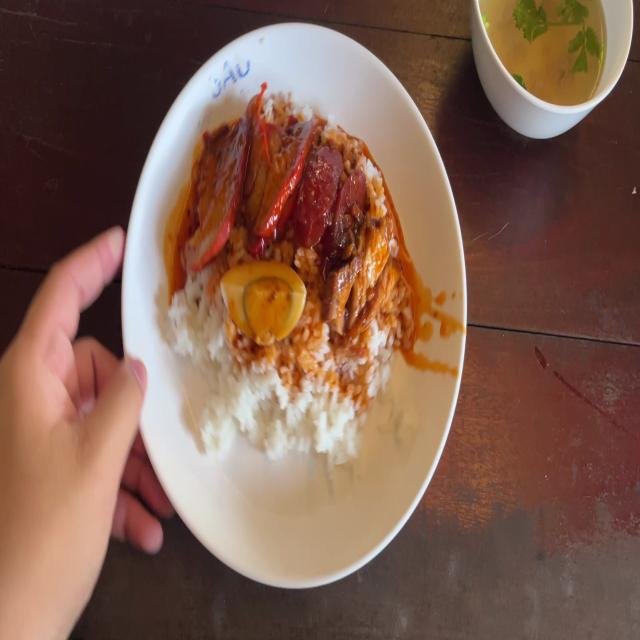01boiled_egg: (230, 259, 298, 341)
01chainese_sausage: (297, 145, 361, 259)
01crispy_pork: (341, 201, 395, 335)
01red_pork: (187, 104, 303, 247)
01red_pork_and_crispy_pork: (182, 112, 409, 449)
01rice: (222, 348, 313, 465), (321, 323, 393, 433), (165, 274, 224, 384)
